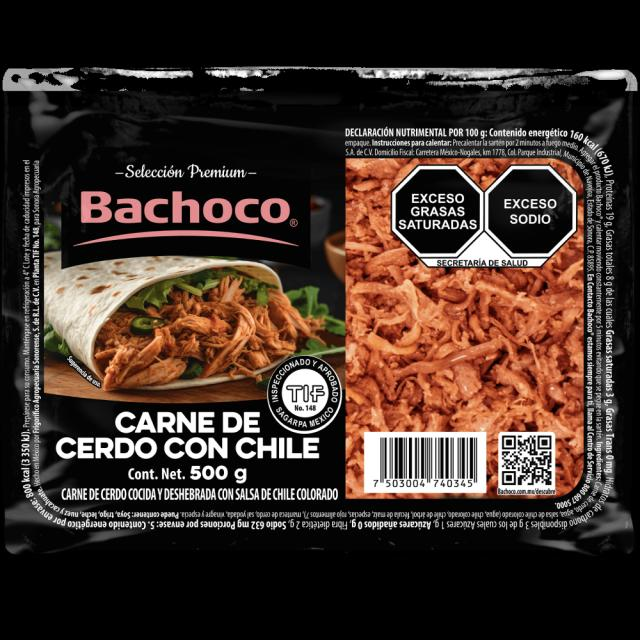carne de cerdo: (351, 267, 579, 414)
